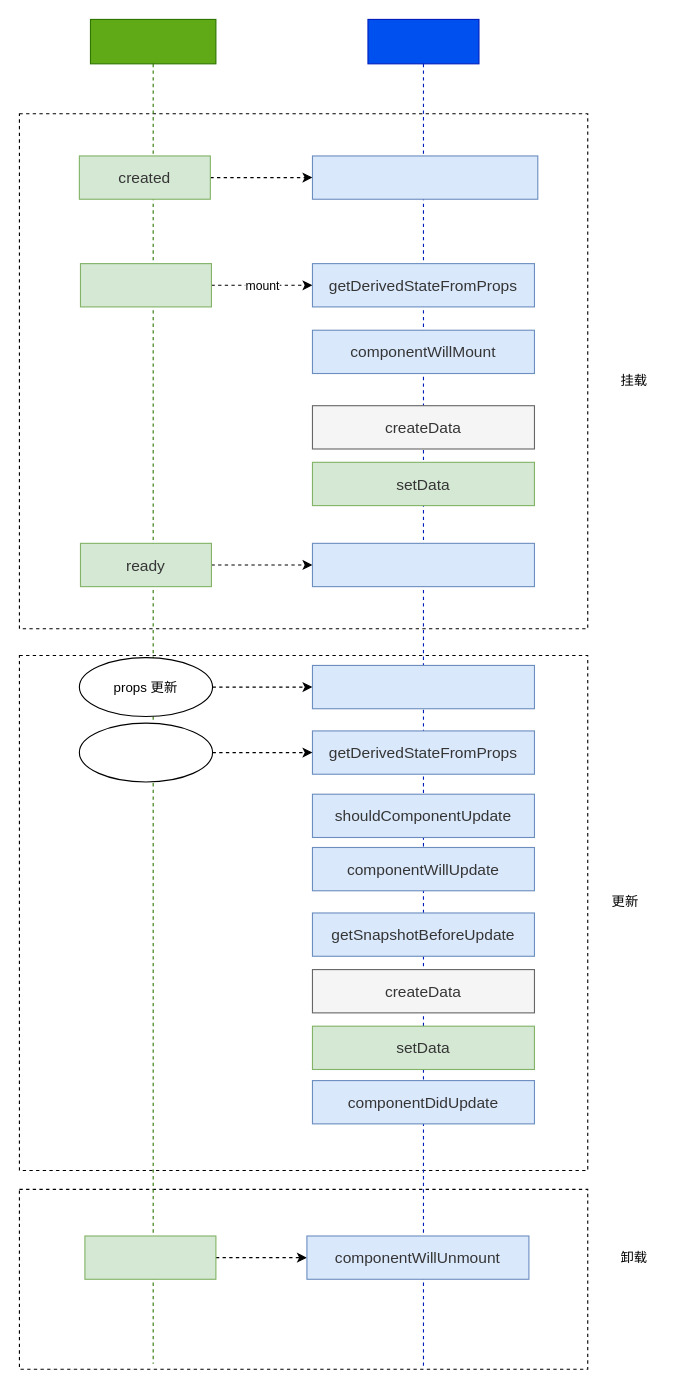
Some shapes in this 676 by 1389 pixel diagram are drawn without their labels. Here are the shapes that lost their labels. From the top down, the box of each, then its label:
(311, 155, 538, 199): constructor
(79, 263, 211, 307): attached
(311, 542, 534, 587): componentDidMount
(89, 18, 216, 1364): 小程序
(311, 664, 534, 709): componentWillReceiveProps
(367, 18, 479, 1368): Taro.Component
(78, 722, 213, 782): State 更新
(84, 1235, 216, 1279): detached
